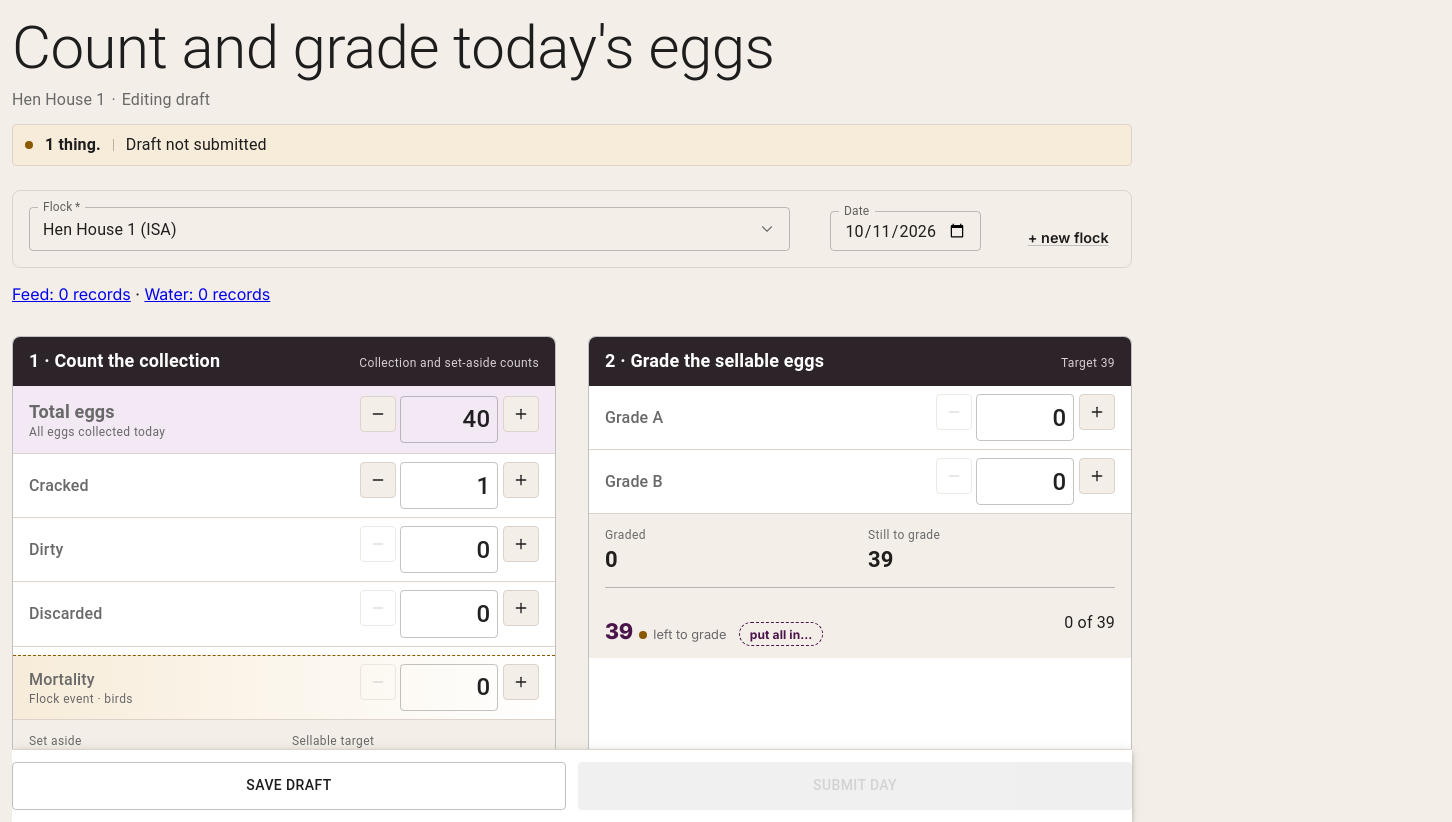
Test: DailyEntryPage draft badge › does not claim a draft while the prefill for a new day is still in flight
Expected: the text "Editing draft" is shown, [122,88,210,112]
Type "2026-07-01" into the date field labelled "Date" at [906, 231], box [830,211,981,251]
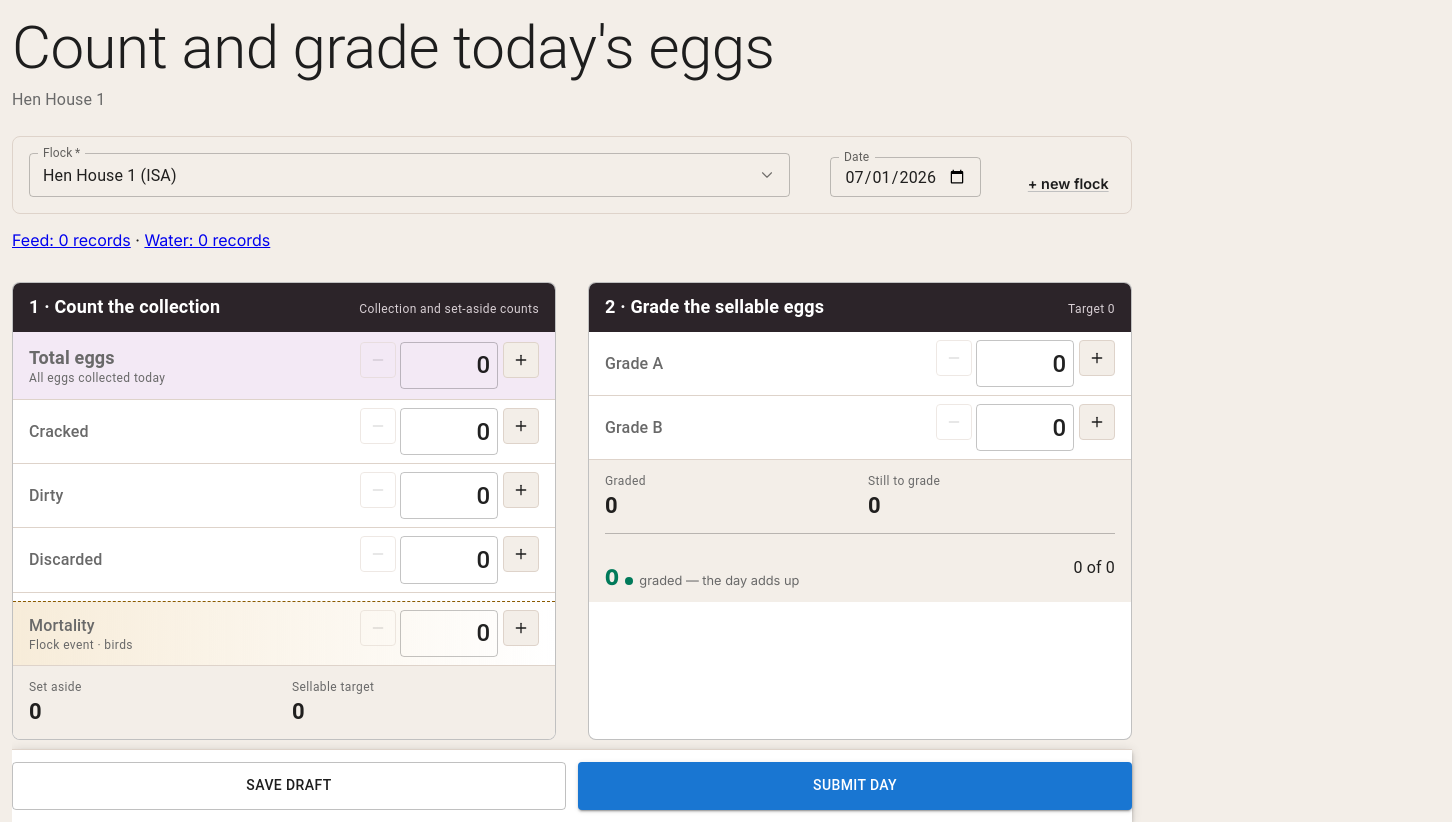
Expected: the text "Editing draft" is gone
